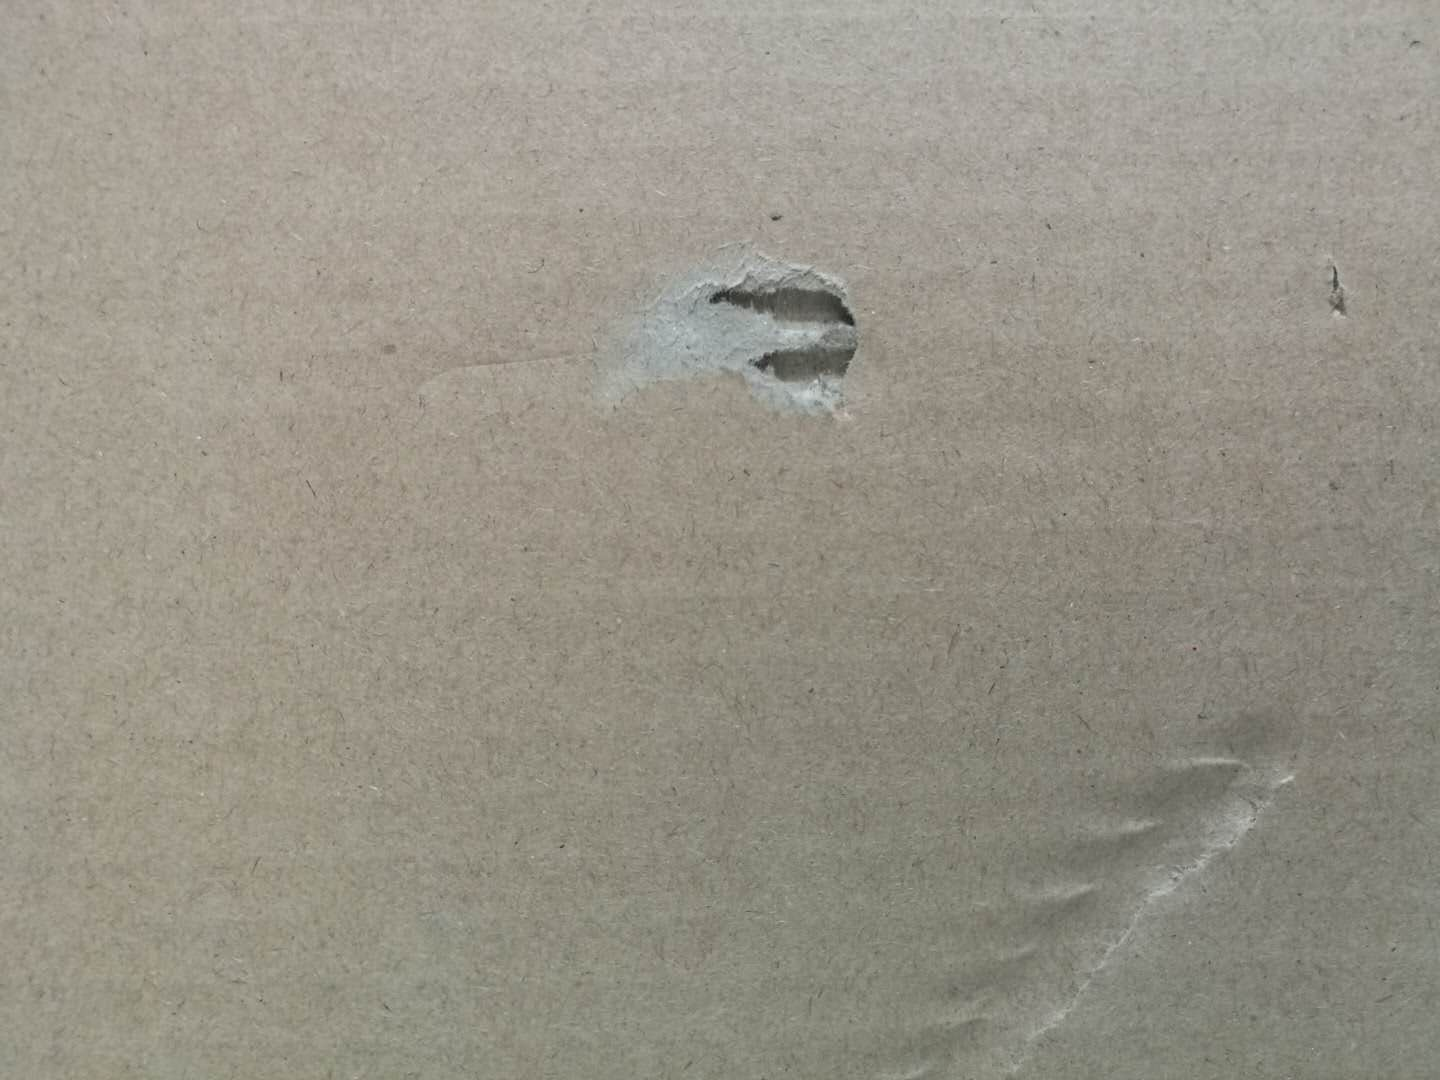defect: (878, 666, 1342, 1080), (571, 217, 904, 459), (1301, 241, 1370, 331)
